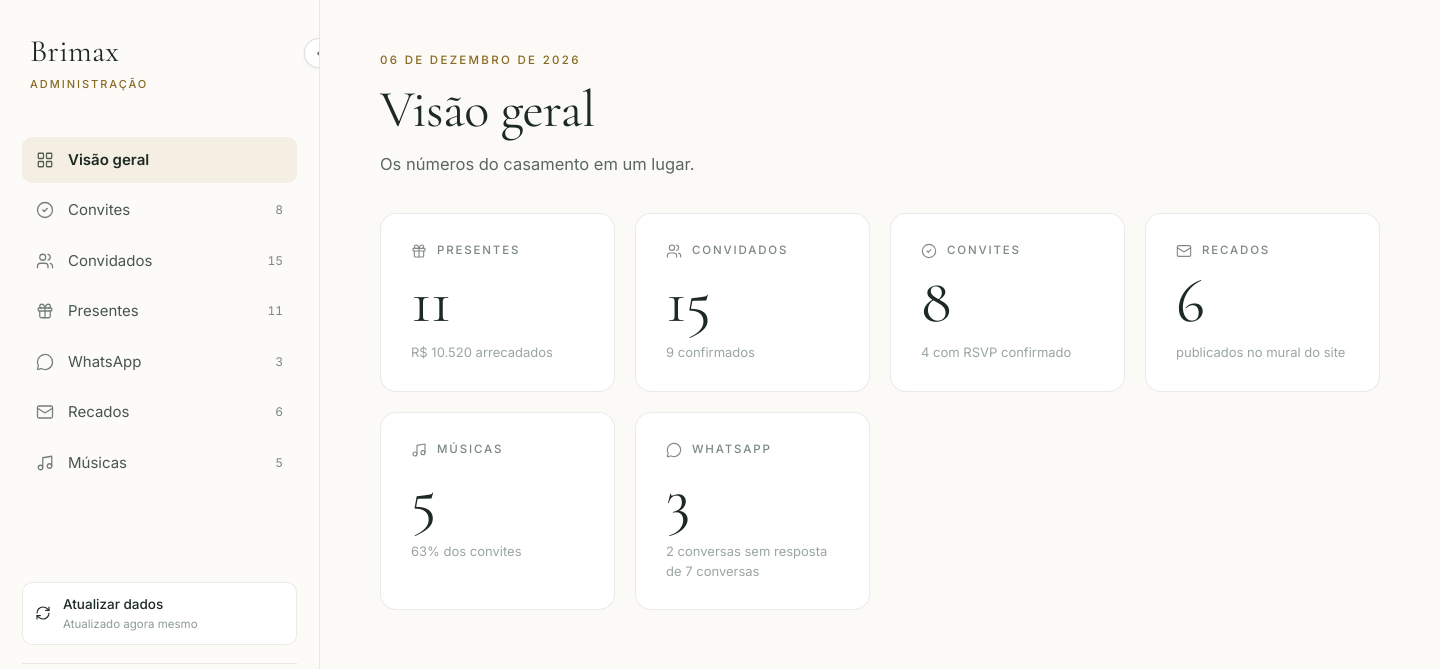
Scenario: invite-detail flow refresh › opening an invitation issues exactly one request and merges refreshed flow fields
Expected: the heading "Visão geral" is shown, left=380, top=78, right=595, bottom=141
Click the link "Convites 8": point(99, 210) left=36, top=200, right=283, bottom=219
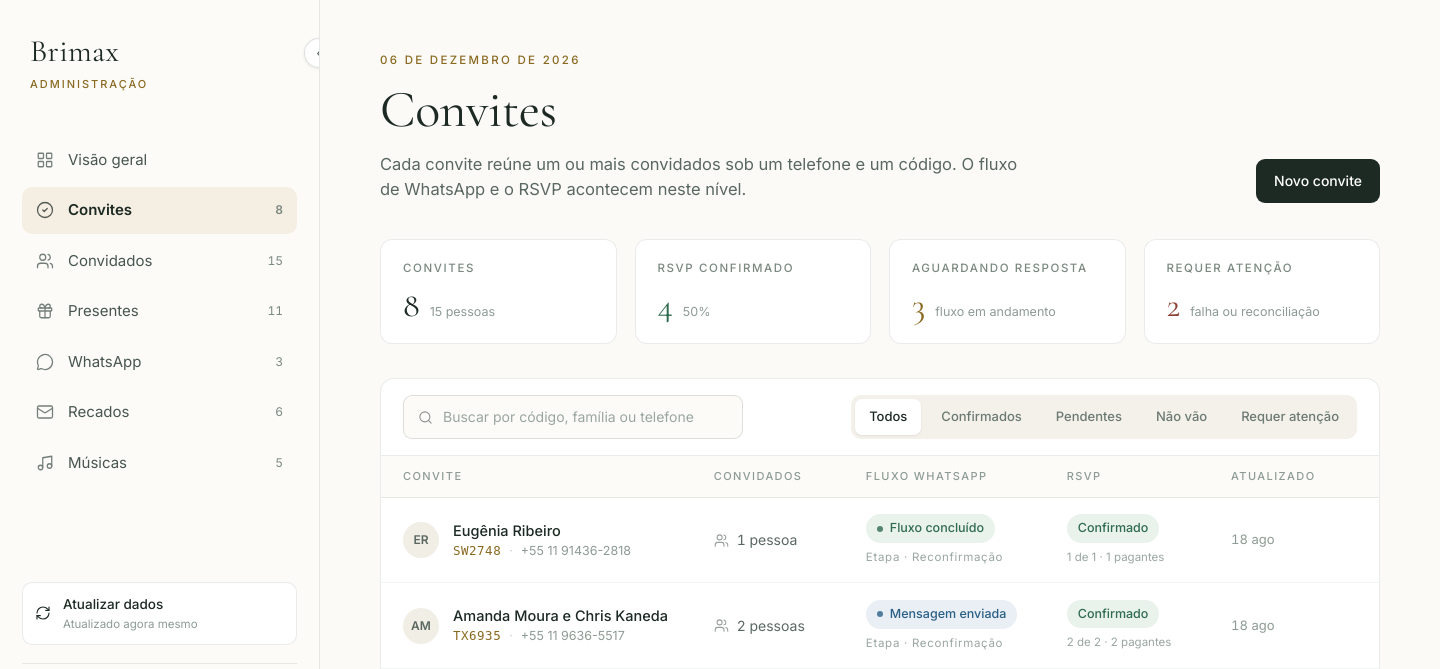
Expected: the heading "Convites" is shown, left=380, top=78, right=556, bottom=141
Click the button with aria-label "Abrir convite SW2748": point(901, 540) left=381, top=498, right=1421, bottom=583
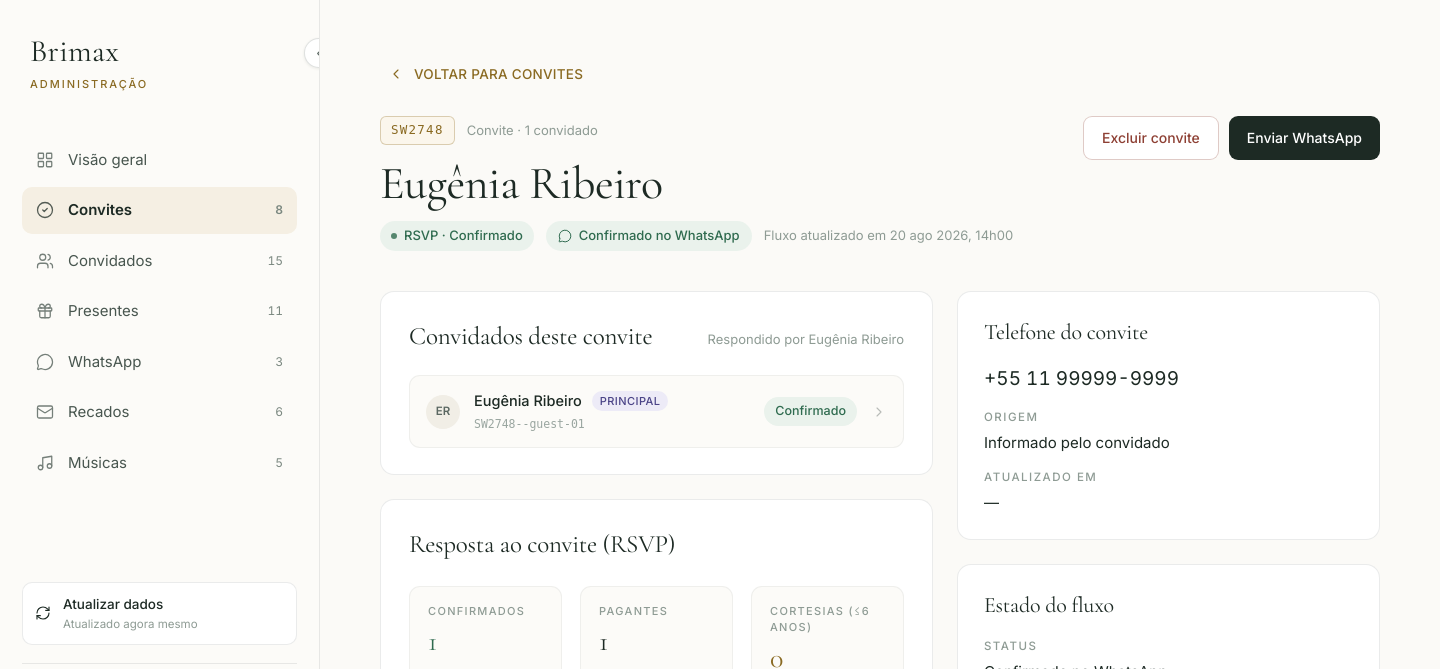
Expected: the heading "Eugênia Ribeiro" is shown, left=380, top=155, right=663, bottom=211
